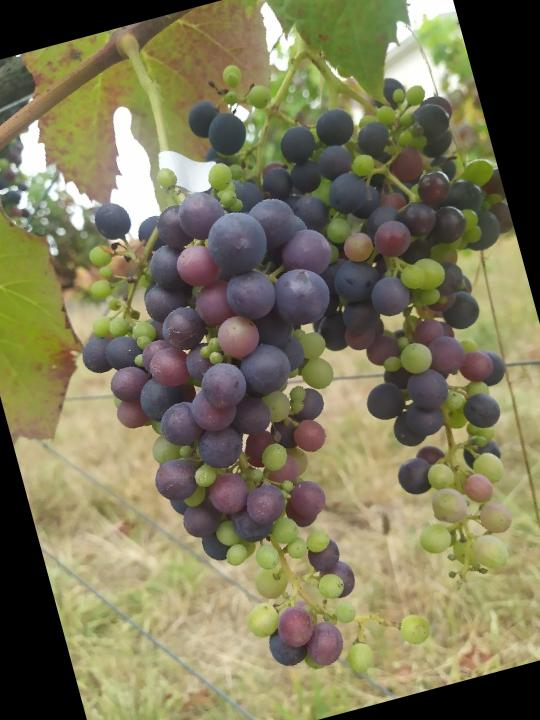grape: (36, 133, 441, 720), (174, 5, 540, 630)
